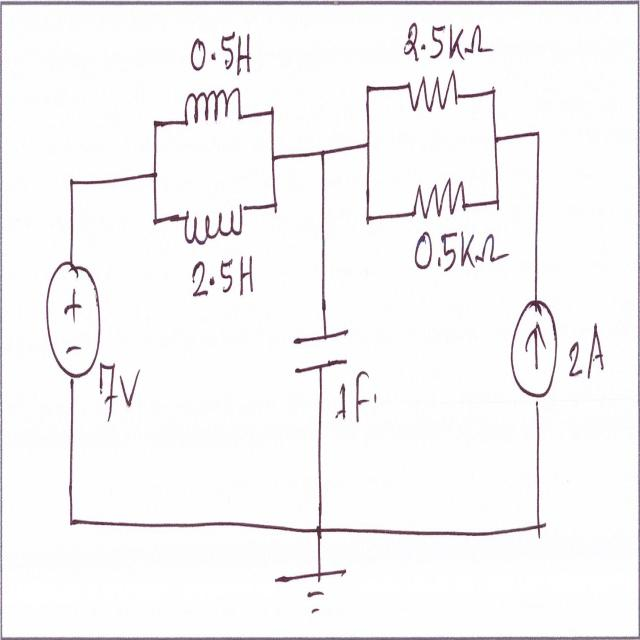capacitor: (291, 324, 352, 383)
current_source: (506, 294, 560, 404)
ground: (273, 564, 350, 622)
inductor: (182, 82, 245, 136), (181, 200, 247, 246)
resistor: (404, 68, 464, 124), (410, 171, 470, 219)
voltage_source: (42, 248, 104, 384)
